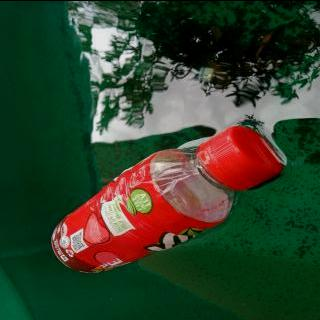bottle: (48, 123, 286, 274)
